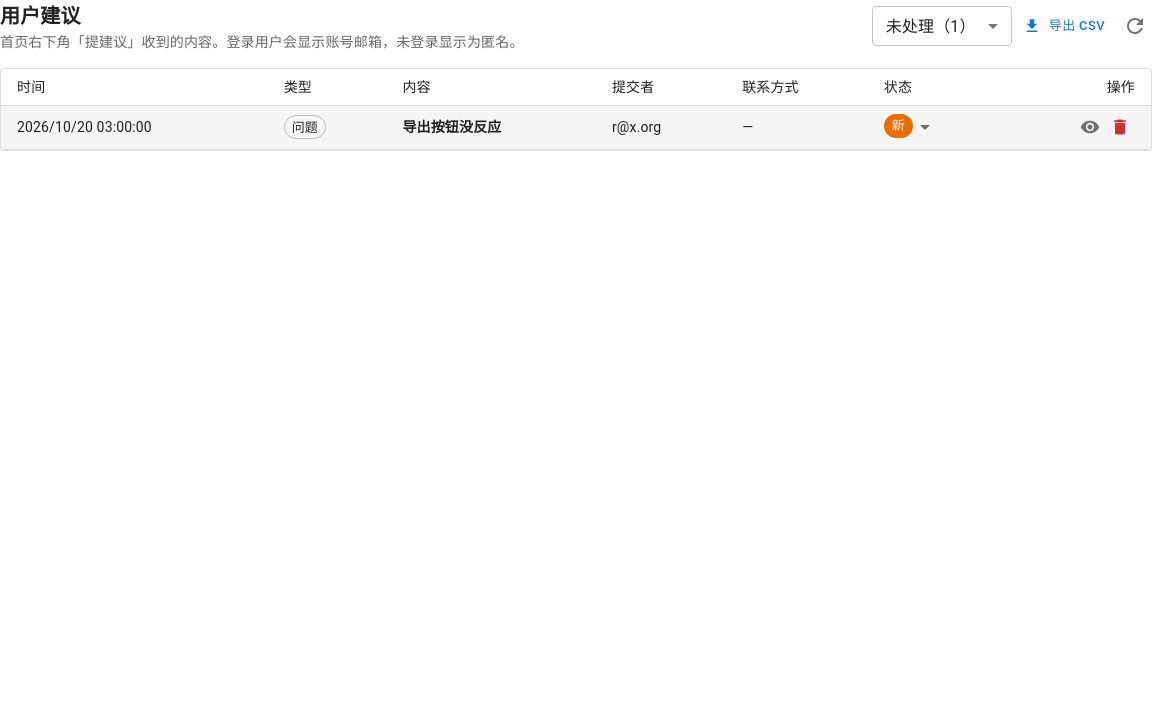
Test case: admin list shows open items and marks a new one read when opened
What coordinates should you click on to do the following:
click the text "导出按钮没反应"
I would click on:
 (452, 127)
Its box is [402,119,502,135].
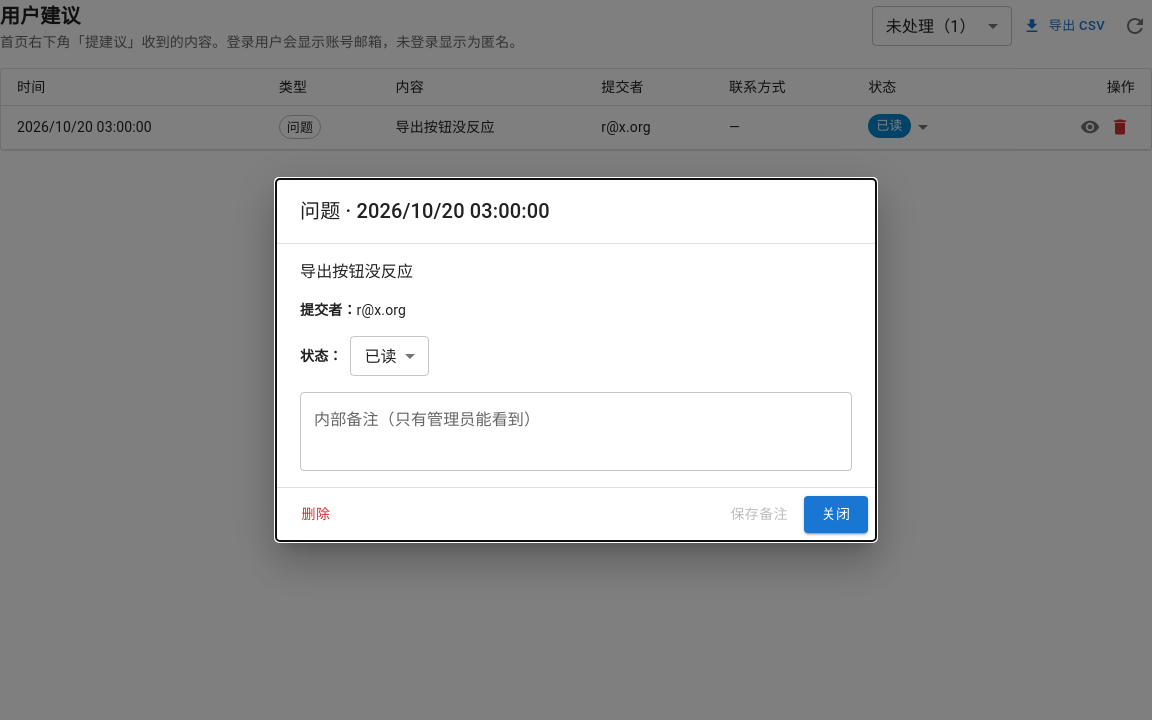
Expected: the text "已读" is shown, [876,118,902,133]
